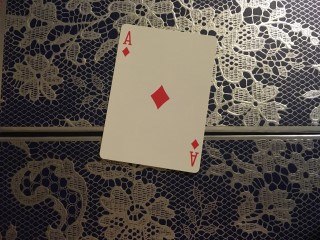AceOfDiamonds: (98, 24, 217, 173)
